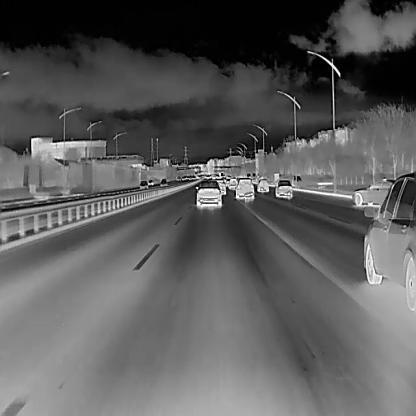car: (362, 170, 415, 312), (350, 175, 400, 208), (194, 178, 222, 207), (234, 177, 255, 202), (275, 178, 293, 197), (213, 176, 226, 195), (256, 177, 269, 192), (227, 176, 238, 190), (289, 173, 302, 184), (139, 178, 147, 188), (158, 177, 168, 185), (146, 178, 154, 186), (176, 174, 181, 179)
